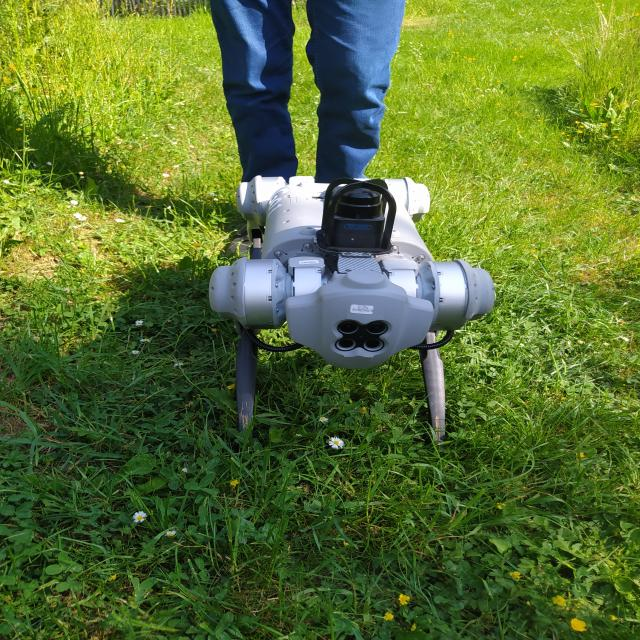unitree-go1-robot: (206, 163, 512, 459)
